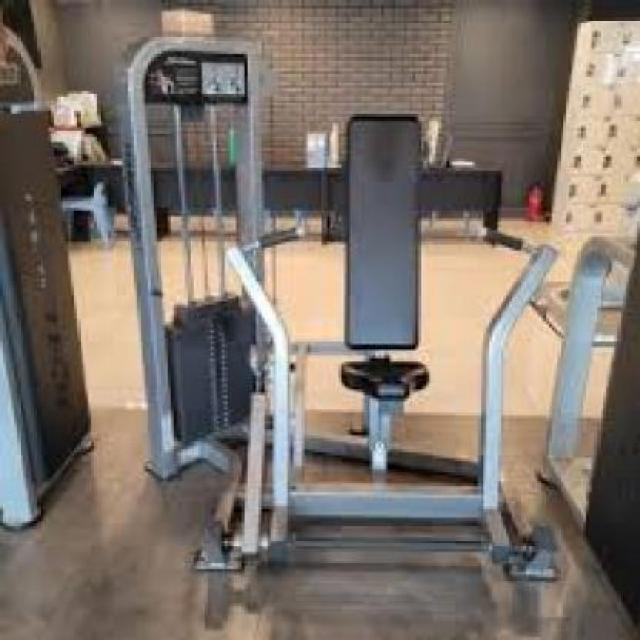Chest Press machine: (111, 24, 569, 594)
